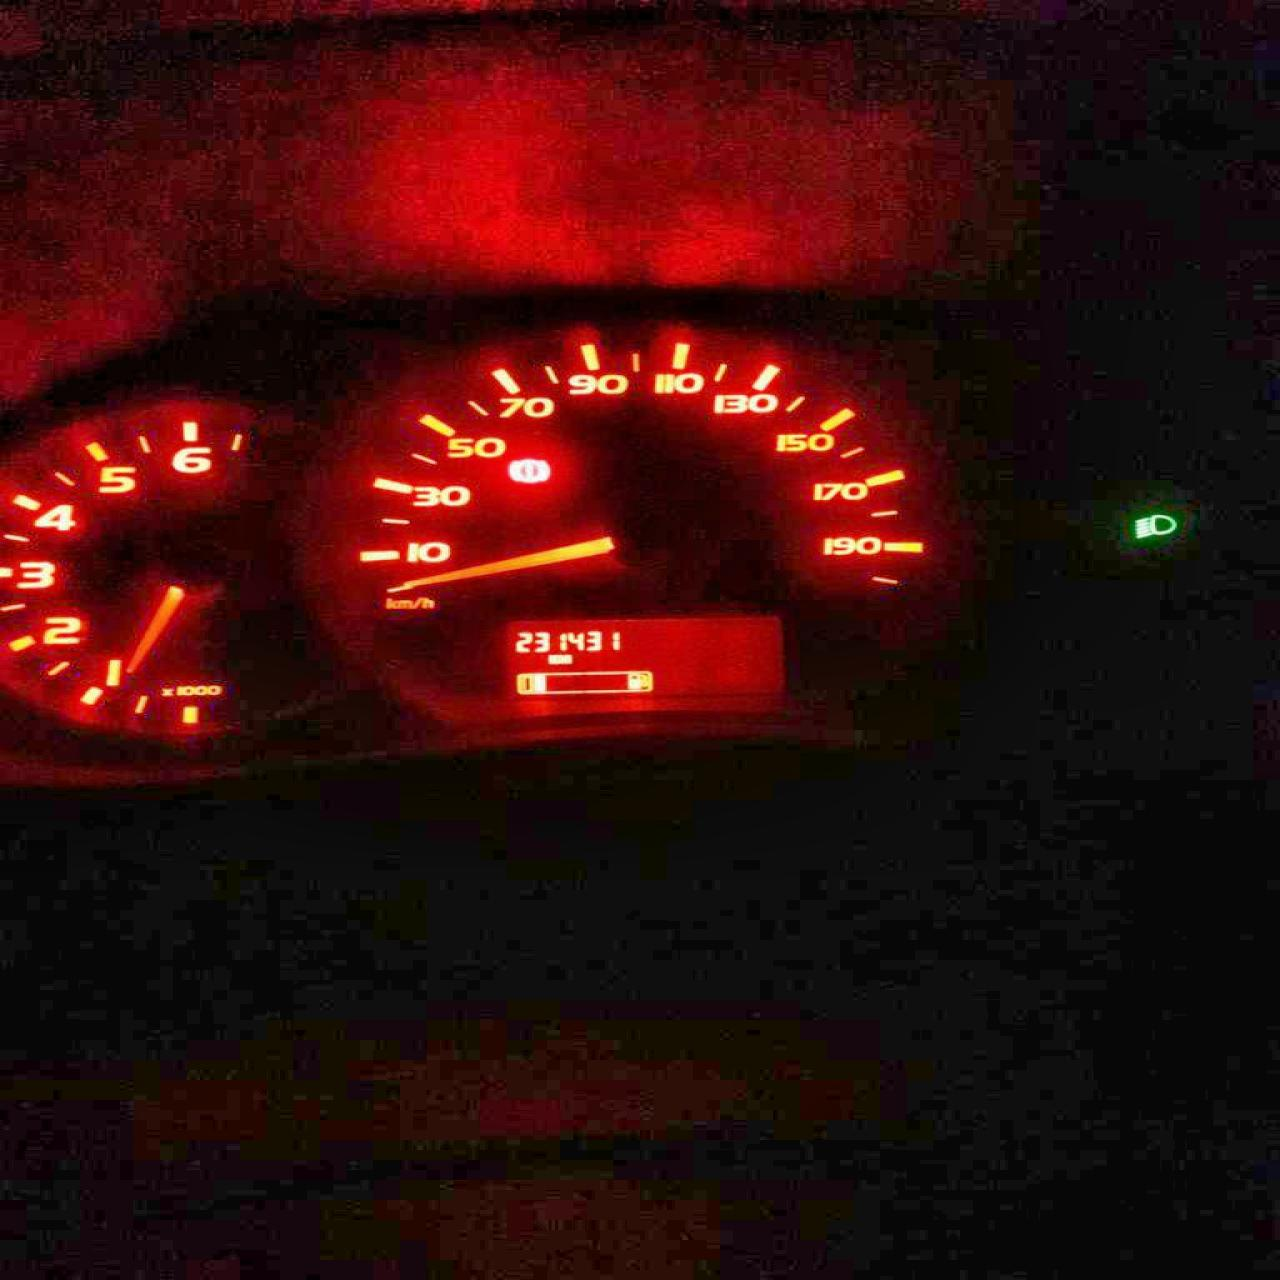1: (610, 629, 620, 652), (557, 631, 566, 651)
2: (516, 628, 532, 653)
3: (532, 629, 550, 652), (585, 629, 601, 651)
4: (567, 629, 584, 651)
X: (557, 653, 572, 663), (546, 654, 557, 663)
odometer: (501, 614, 790, 704)
